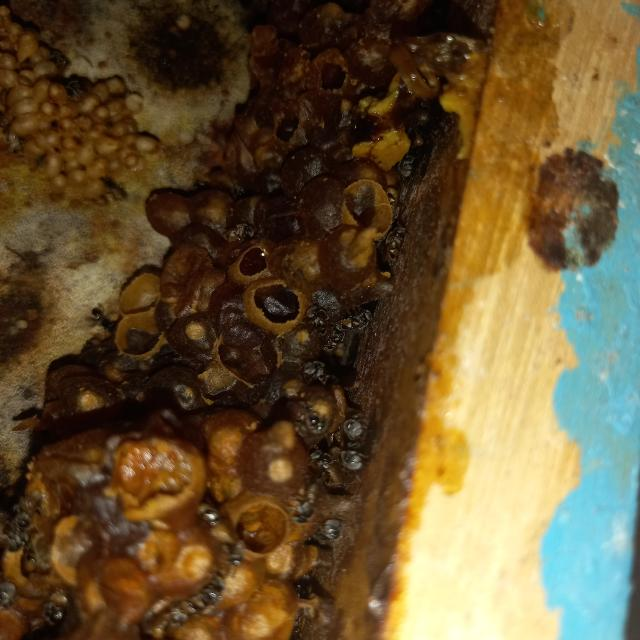honeybee: (200, 503, 232, 535), (342, 442, 368, 480), (163, 598, 197, 627), (97, 173, 131, 202), (337, 415, 371, 440), (223, 546, 251, 574), (292, 576, 320, 604), (47, 602, 76, 628), (308, 406, 333, 435), (264, 294, 294, 318), (0, 584, 22, 616), (198, 581, 225, 607), (306, 361, 338, 382), (62, 74, 87, 99), (14, 504, 36, 532), (312, 450, 334, 476), (324, 521, 342, 544)
